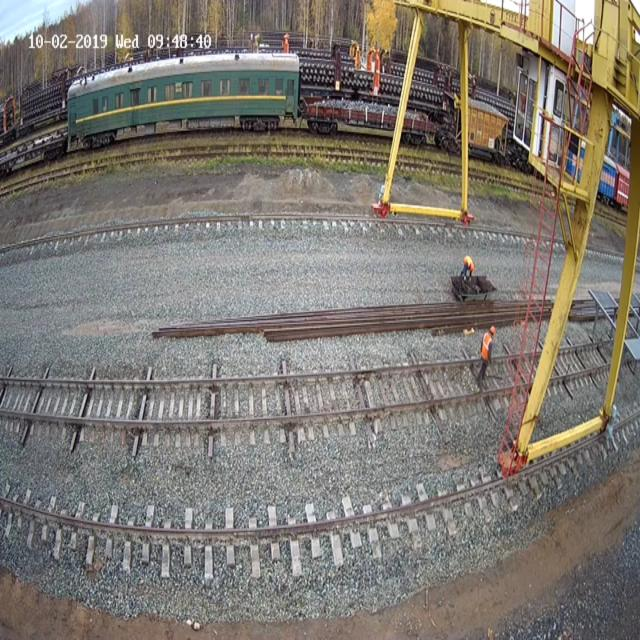Helmet: (490, 325, 496, 335)
Person: (476, 325, 496, 386), (460, 255, 475, 280)
